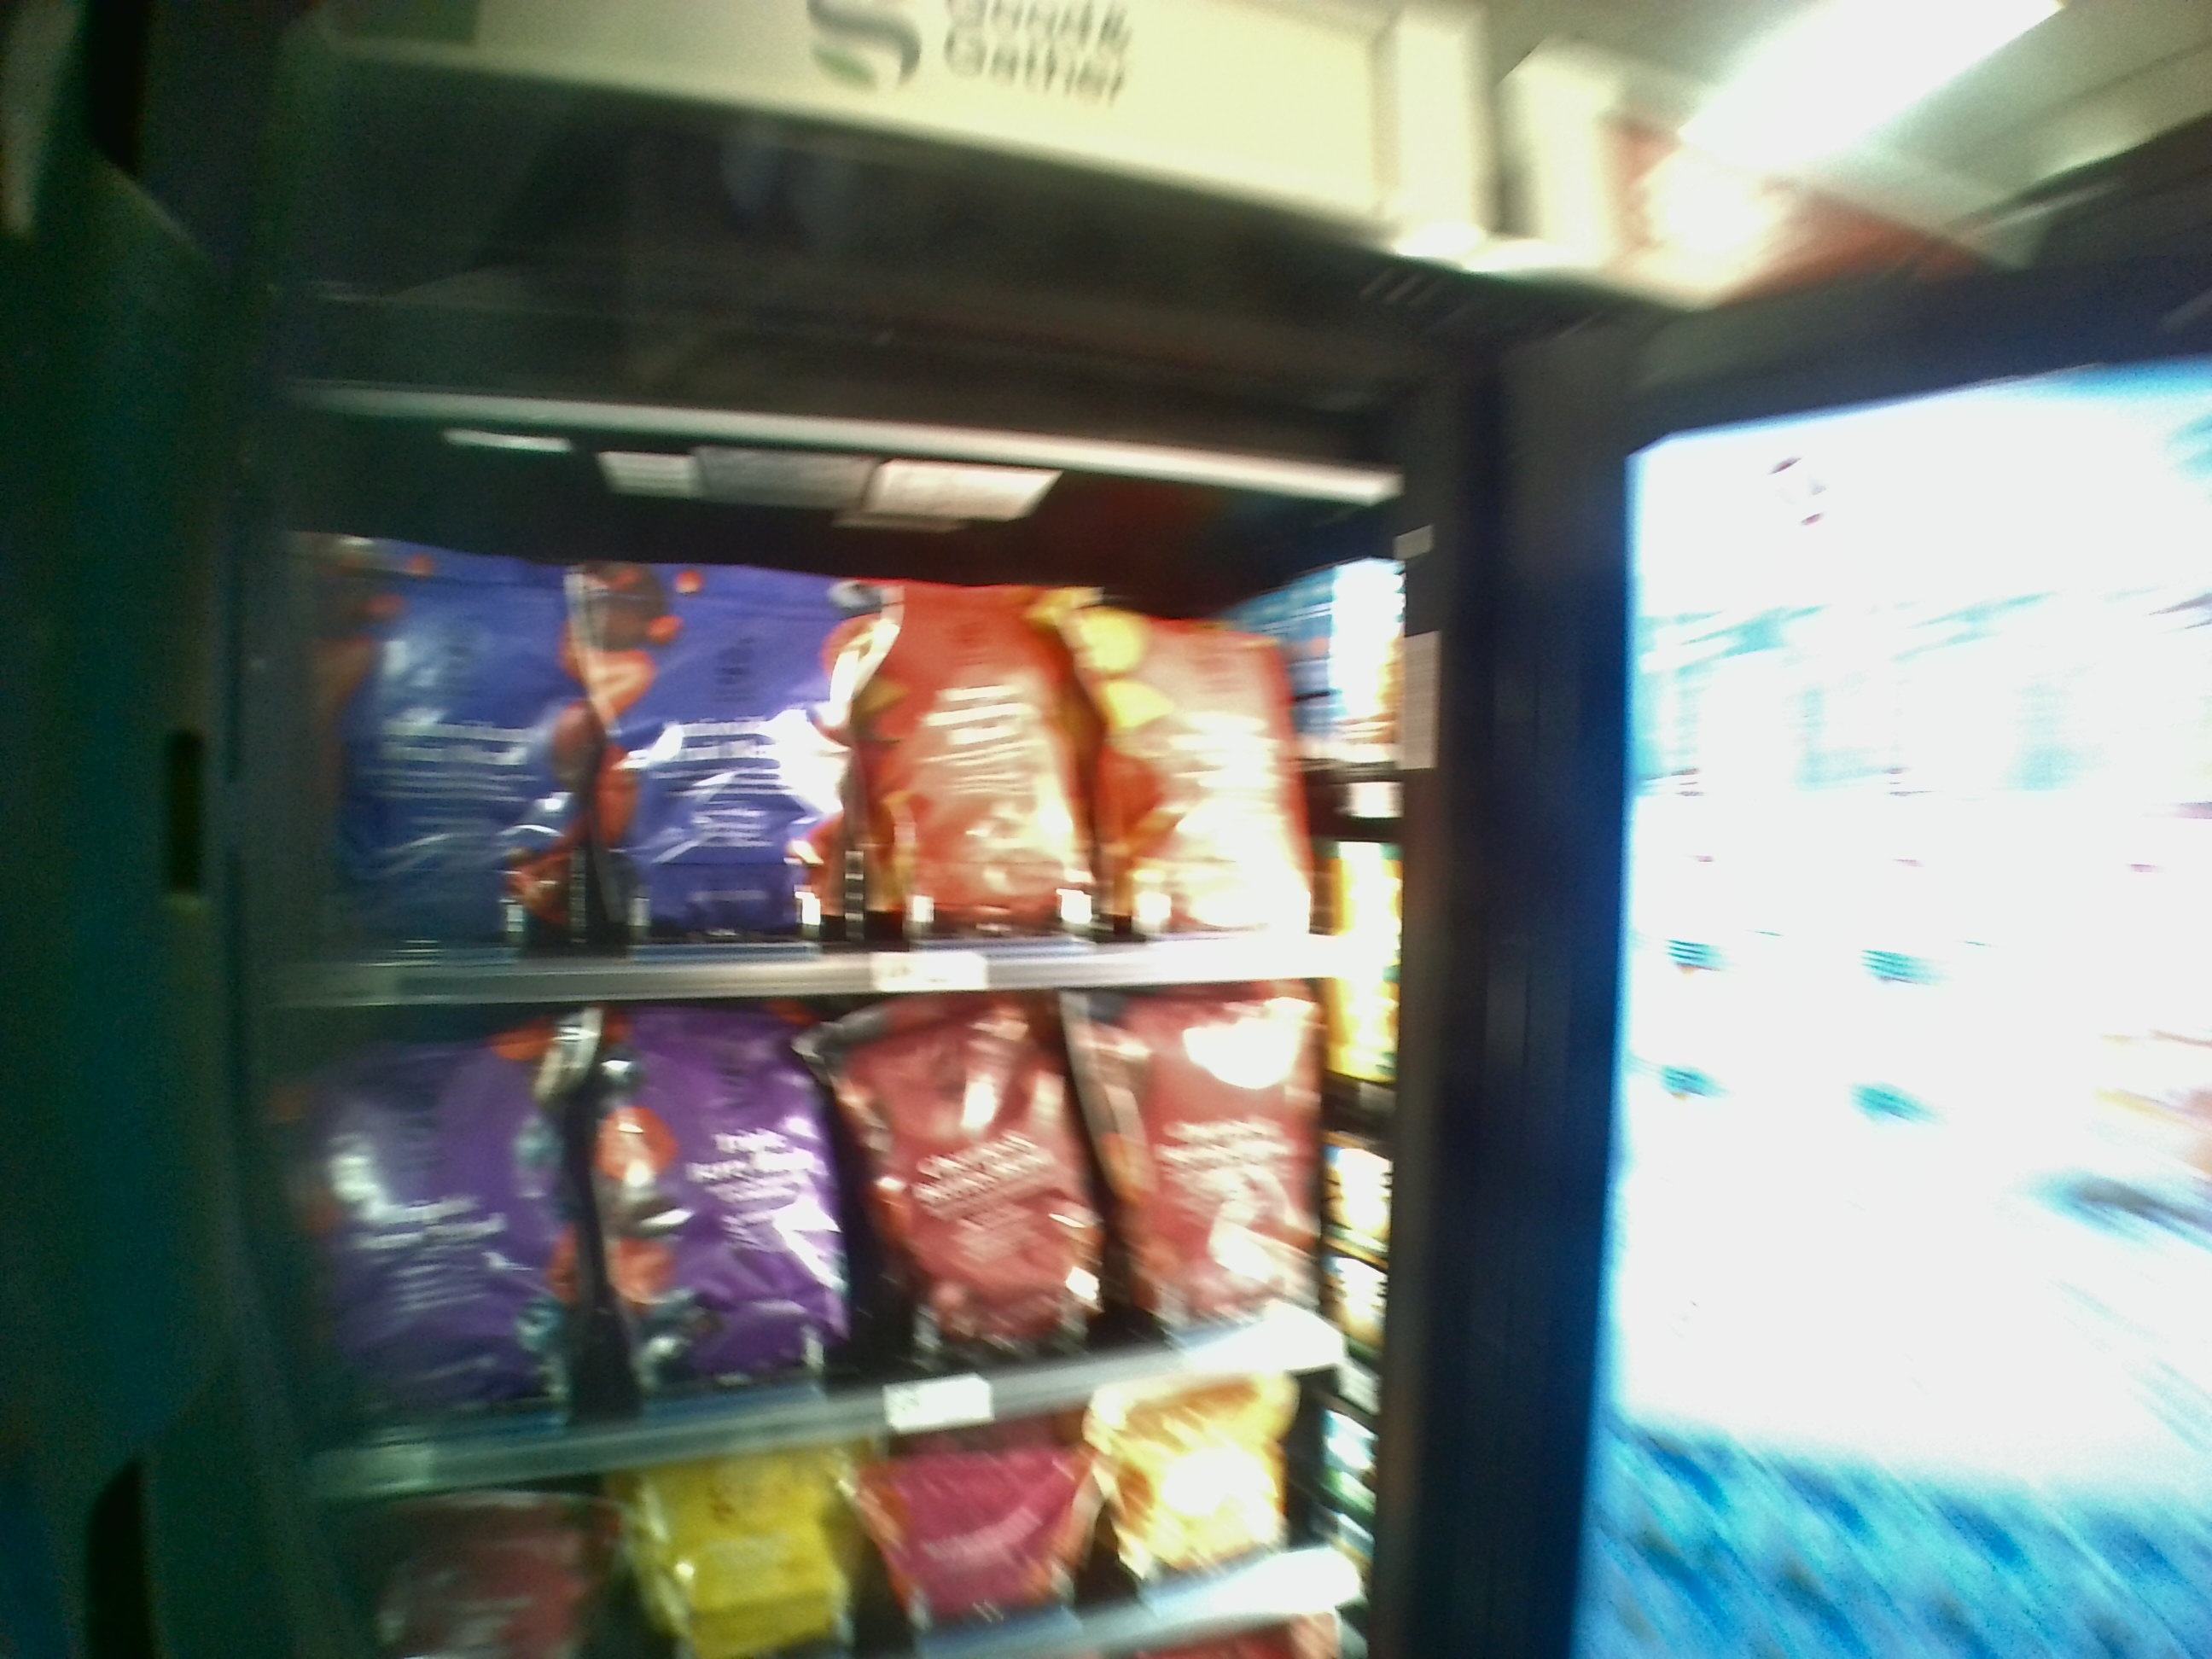shelf: (265, 420, 1395, 995), (296, 997, 1374, 1429)
